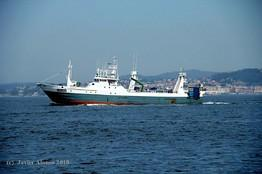otherboat: (33, 53, 207, 111)
